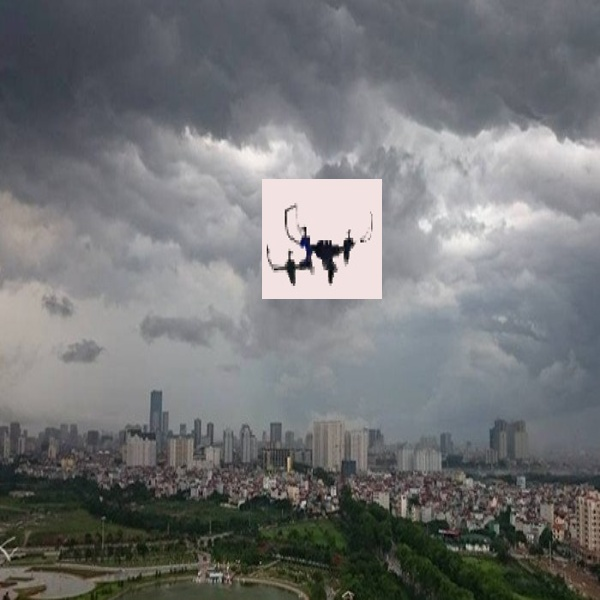drone: (267, 189, 377, 294)
